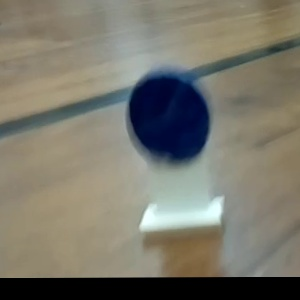circle: (126, 59, 228, 243)
